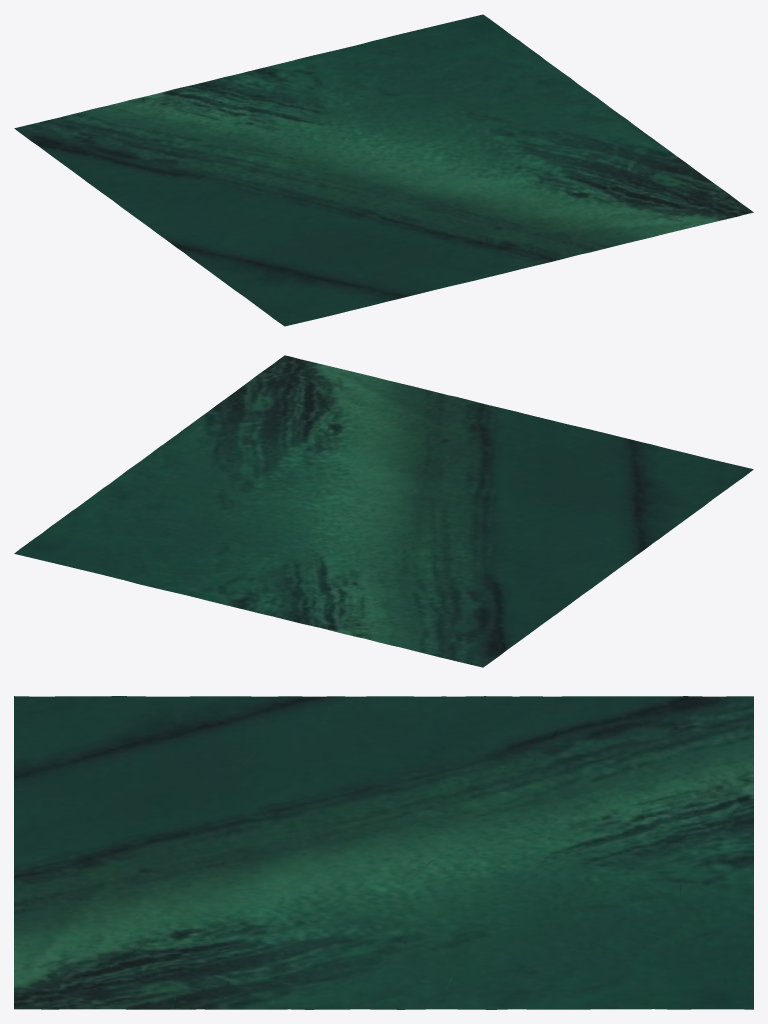
3 renders of one model, top to bottom at view 1: azimuth 30°, elevation 25°; view 2: azimuth 150°, elevation 25°; view 3: azimuth 270°, elevation 25°, orthographic. The views are drawn at different scales.
Size of the model in its own units: 418 by 0.9666 by 418.
2 materials, 2 textured.
